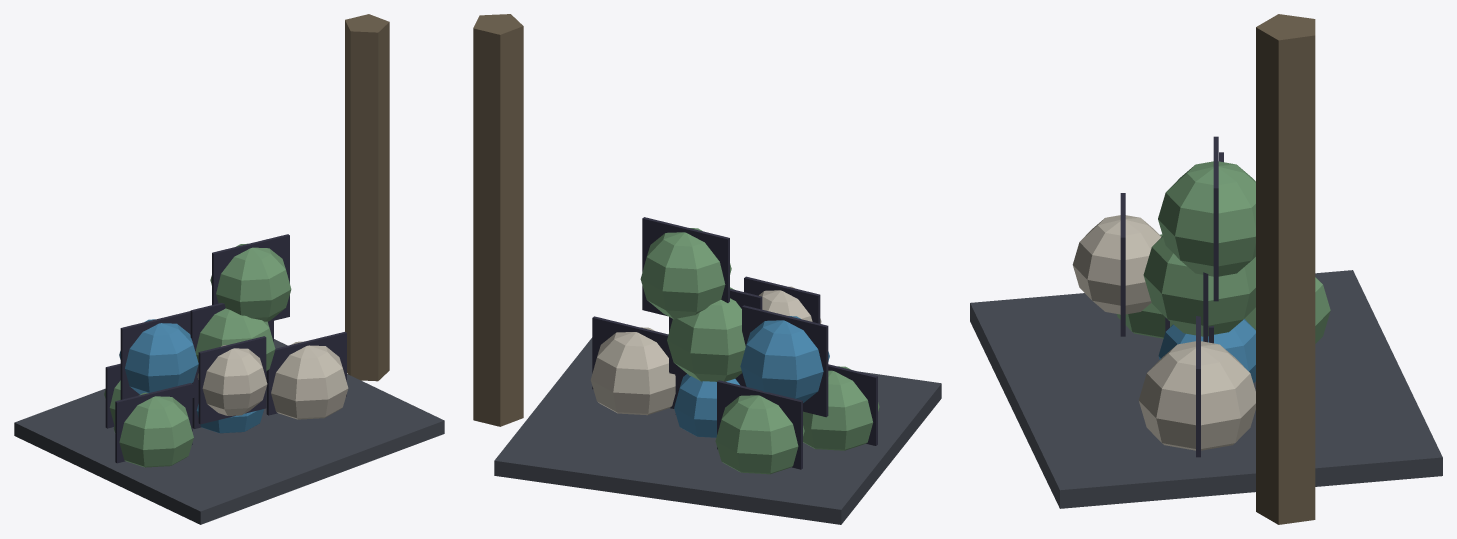
The model's file is float_pile.glb.
The picture shows the model from 3 angles, left to right: view 1: azimuth 30°, elevation 25°; view 2: azimuth 150°, elevation 25°; view 3: azimuth 270°, elevation 25°; orthographic projection. The views are drawn at different scales.
Parts seen in each view (by area): view 1: slate_d35, driftwood_d45, moss_l10, ink_l10, bone_d20, tide_l5; view 2: slate_d35, driftwood_d45, moss_l10, ink_l10, tide_l5, bone_d20; view 3: slate_d35, driftwood_d45, moss_l10, bone_d20, ink_l10, tide_l5.
Part boxes in pixels (x1,y1,x2,y2): slate_d35: (14,339,444,524); driftwood_d45: (345,14,389,381); moss_l10: (104,243,291,467); ink_l10: (105,234,346,463); bone_d20: (197,341,348,419); tide_l5: (119,319,263,433); slate_d35: (494,337,941,524); driftwood_d45: (473,14,523,426); moss_l10: (640,228,879,474); ink_l10: (592,217,877,469); tide_l5: (674,316,829,437); bone_d20: (590,286,821,415); slate_d35: (970,270,1442,508); driftwood_d45: (1256,14,1315,524); moss_l10: (1117,161,1330,343); bone_d20: (1072,215,1255,450); ink_l10: (1120,136,1223,457); tide_l5: (1158,319,1255,383).
Bounding box in the file's own units: 1.36 × 1.32 × 1.15.
